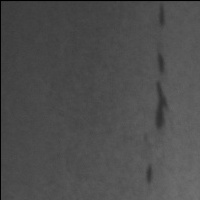inclusion: (150, 79, 172, 132), (153, 49, 170, 77), (141, 161, 159, 186), (155, 2, 167, 30)
